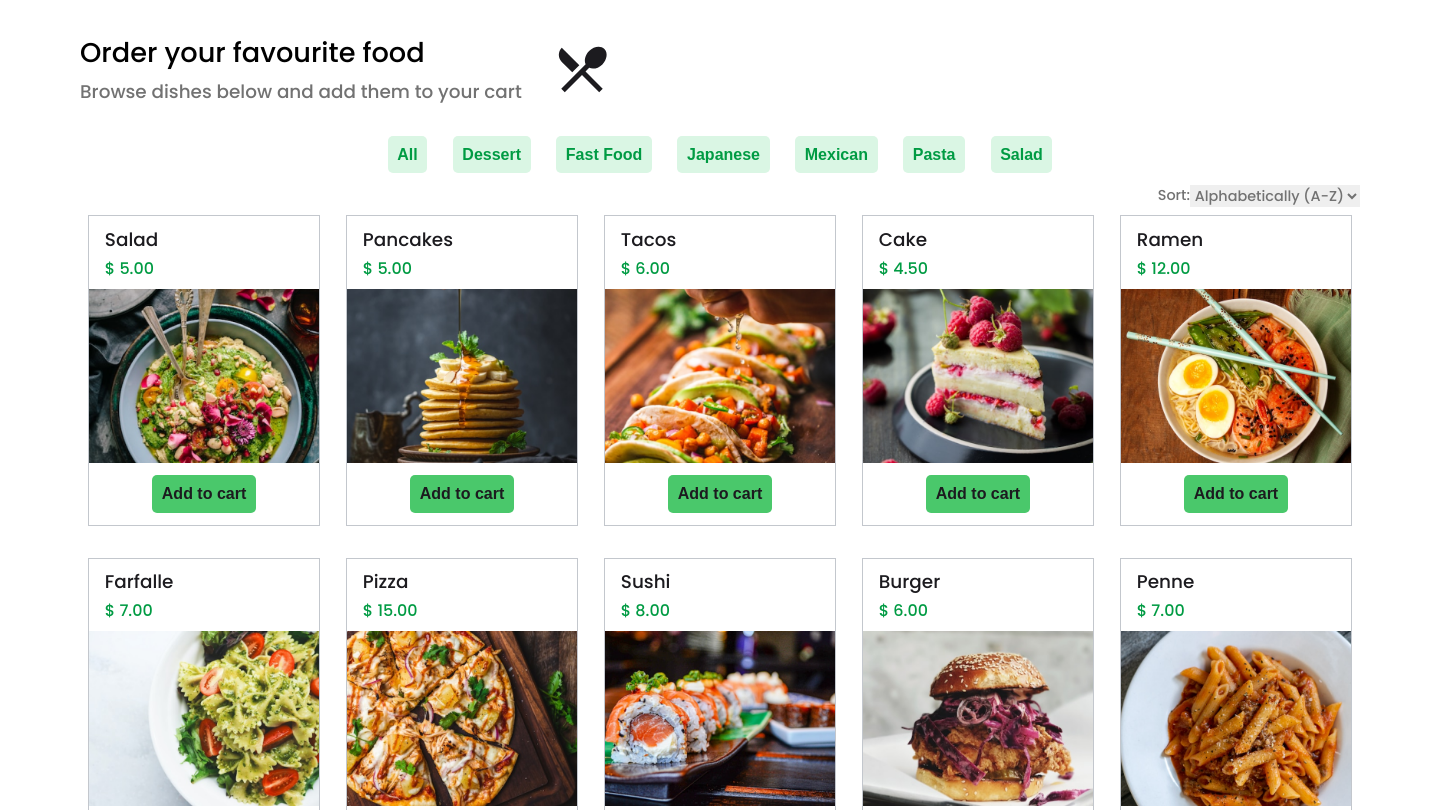
Scenario: food is filtered by desserts and then by all categories
Click the button "Dessert" at [492, 155], box [453,136,531,174]
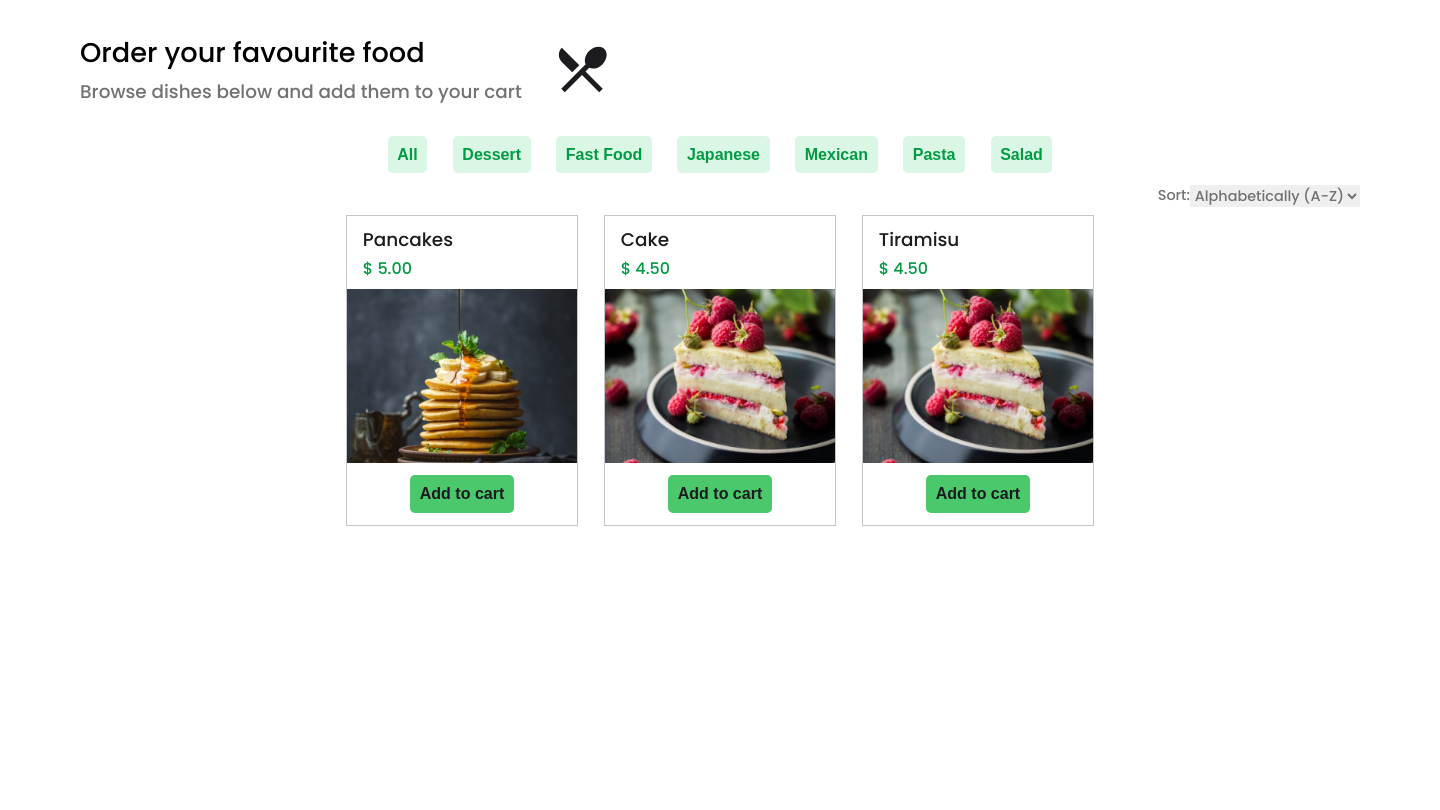
Expected: the heading "Pancakes" is shown, [363,226,453,253]
Result: the number of elements with test id "food-card" is 3 at [346,216,578,526]; [604,216,836,526]; [862,216,1094,526]
Result: the heading "Ramen" is gone
Click the button "All" at [407, 155], box [388,136,427,174]
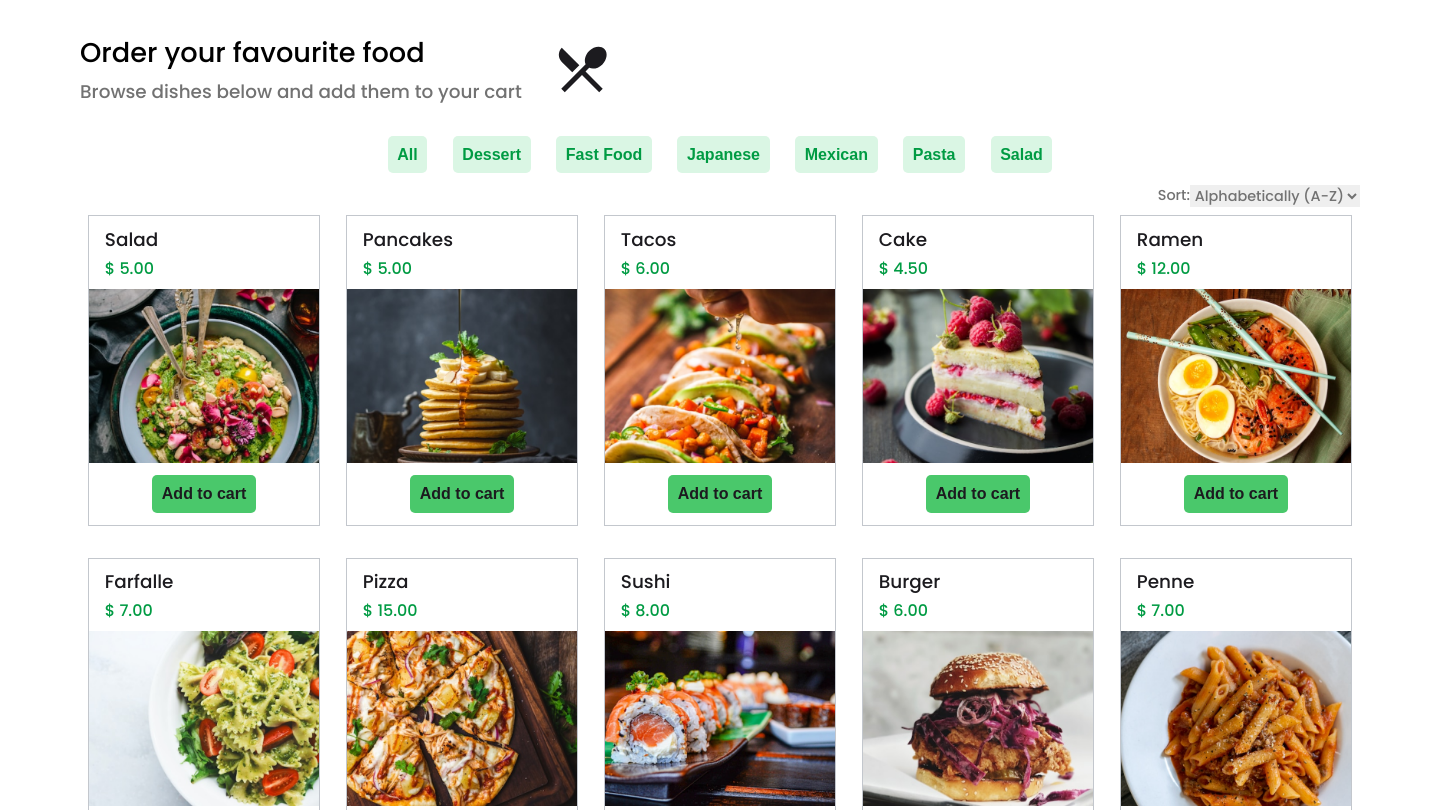
Result: the number of elements with test id "food-card" is 10
